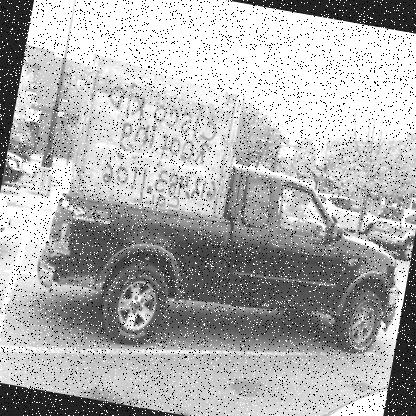Car: (304, 190, 379, 235), (362, 201, 415, 264), (1, 146, 28, 190), (0, 192, 18, 251), (6, 128, 35, 162)
